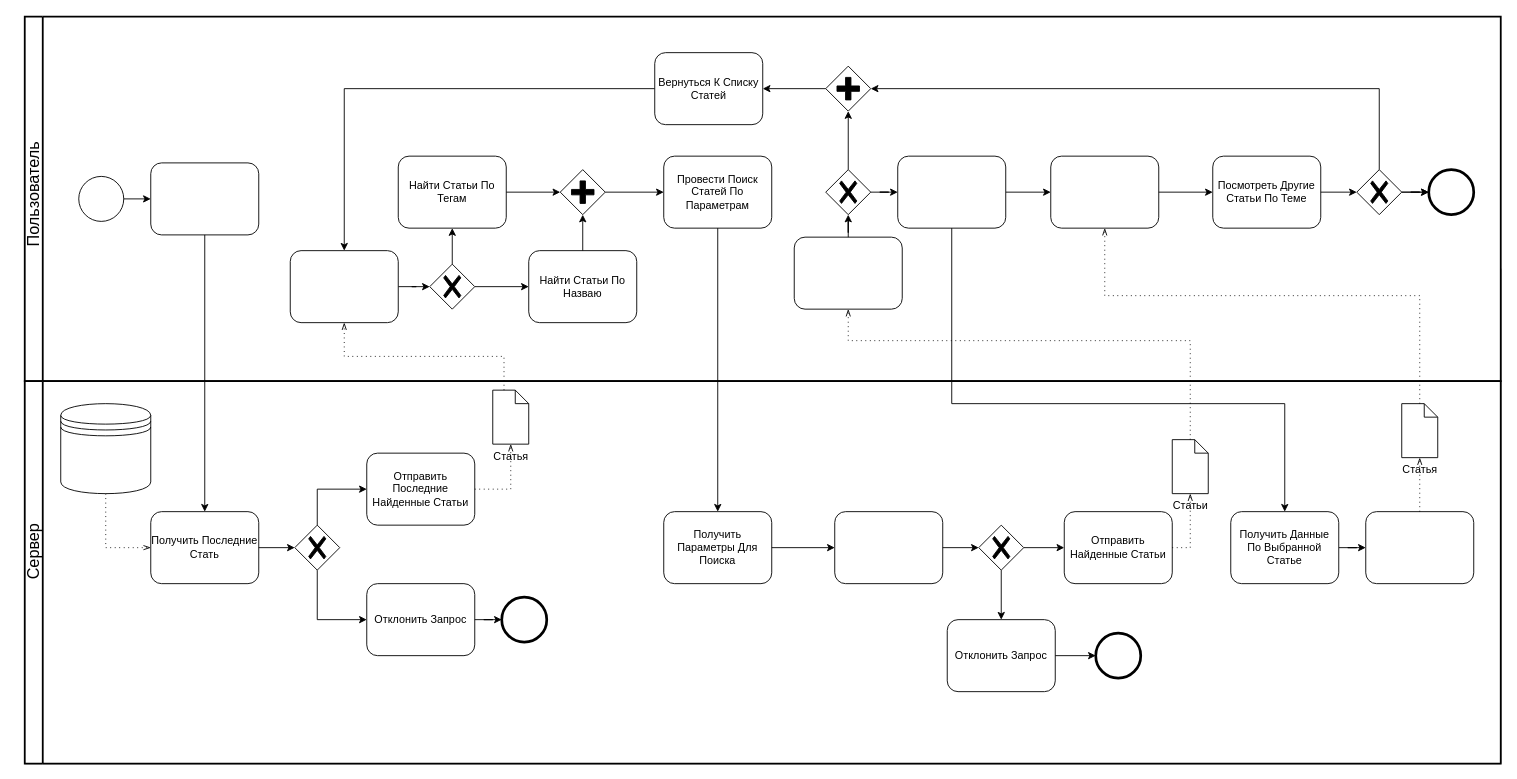
The diagram is 1517 pixels wide and 779 high, and some of its shapes have lost their labels. Here are the shapes that lost their labels. From the top down, the box of each, then its label:
(150, 162, 259, 235): Открывает Сайт
(897, 155, 1006, 228): Открыть Интересующую Статью
(1050, 155, 1159, 228): Читать Статью
(289, 250, 398, 323): Просмотр Статей
(793, 236, 902, 309): Получить Новостные Стать
(60, 403, 151, 494): Articles
(834, 511, 943, 584): Поиск Подходящих Статей
(1365, 511, 1474, 584): Отправить Данные По Статье
